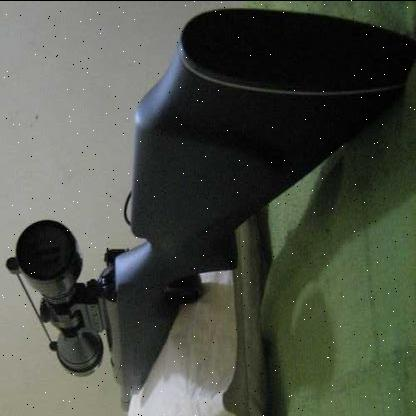rifle: (1, 24, 415, 409)
